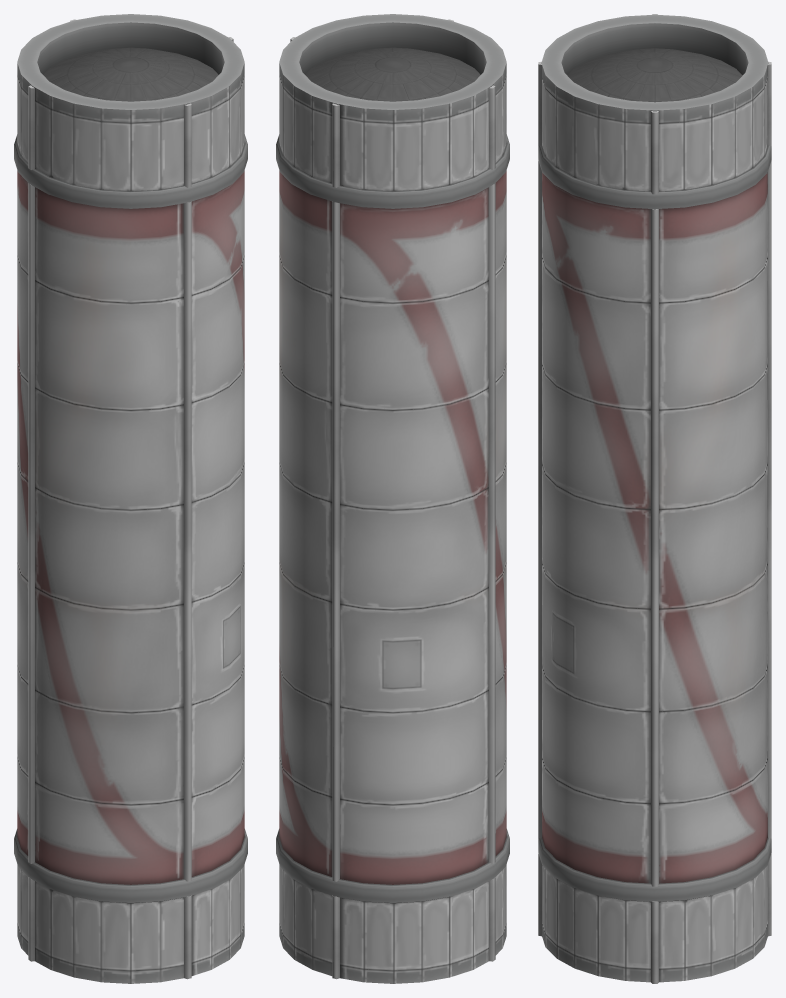
The model's file is Diamant_ATank.dae.
3 renders of one model, left to right at view 1: azimuth 30°, elevation 25°; view 2: azimuth 150°, elevation 25°; view 3: azimuth 270°, elevation 25°, orthographic.
Visible parts, largest first — view 1: DiamantAtank4; view 2: DiamantAtank4; view 3: DiamantAtank4.
Boxes of the visible parts, x1,y1,x2,y2 form: DiamantAtank4: (14, 14, 247, 983); DiamantAtank4: (276, 14, 509, 983); DiamantAtank4: (538, 14, 771, 983).
Size of the model in its own units: 1.28 by 5.3 by 1.28.
